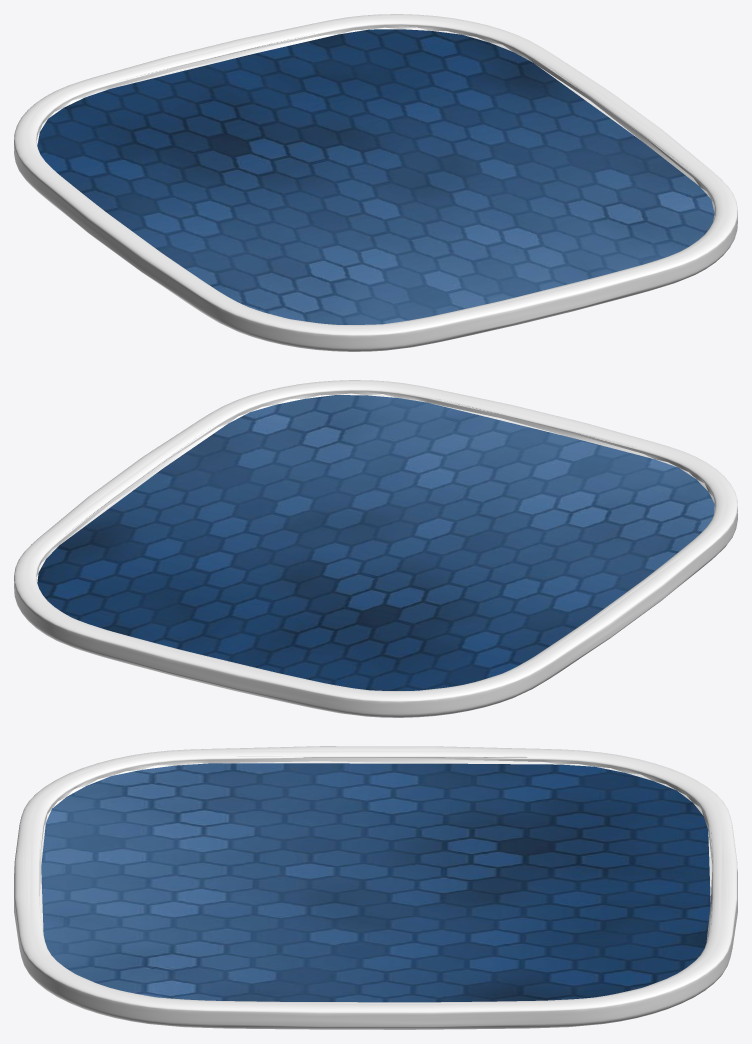
The model's file is table3.glb.
3 views of the same model, one above another, from view 1: azimuth 30°, elevation 25°; view 2: azimuth 150°, elevation 25°; view 3: azimuth 270°, elevation 25° (orthographic). The views are drawn at different scales.
Visible parts, largest first — view 1: Table; view 2: Table; view 3: Table.
Boxes of the visible parts, x1,y1,x2,y2 form: Table: (14,14,737,351); Table: (14,380,737,717); Table: (14,746,737,1029).
Bounding box in the file's own units: 16.37 × 0.6756 × 18.77.
Materials: 2 (1 with a texture image).
